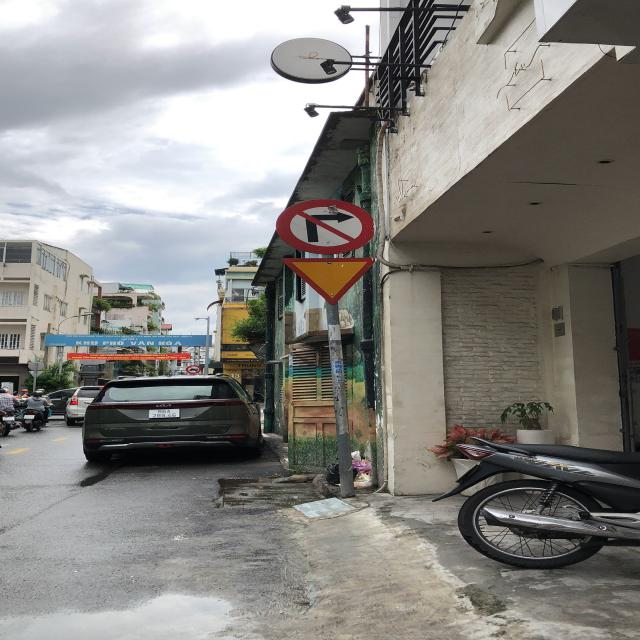Bien bao cam re phai: (272, 195, 383, 255)
Bien bao giao nhau voi duong uu tien: (274, 254, 388, 307)
